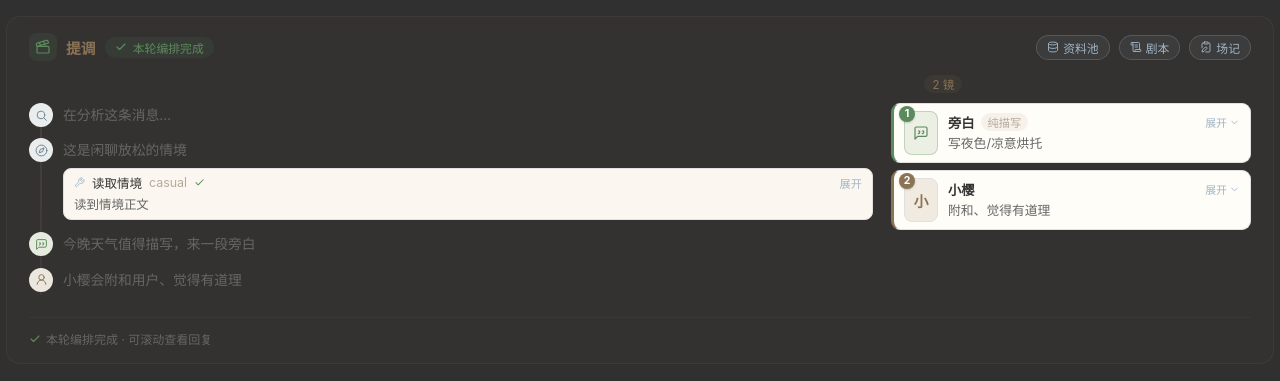
it: TidiaoDirectorStreamBand › 形态1·E5 角色镜钻取（per-speaker 过程可见性） › 未取料的角色：展开提示「本轮未额外取料」
Note: 旁白镜恒可钻取在前 → 取角色镜 drill（末个）展开
Step 1. Click the 2nd button with class "tds-shot-drill" → [1223, 189], box [1205,181,1240,197]
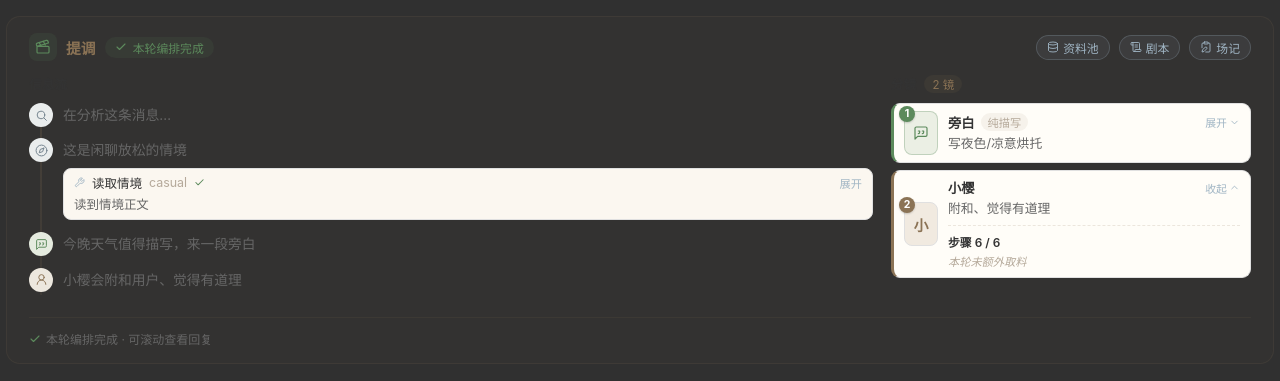
Expected: the element with class "tds-shot-detail" shows "本轮未额外取料", [948,255,1026,269]
